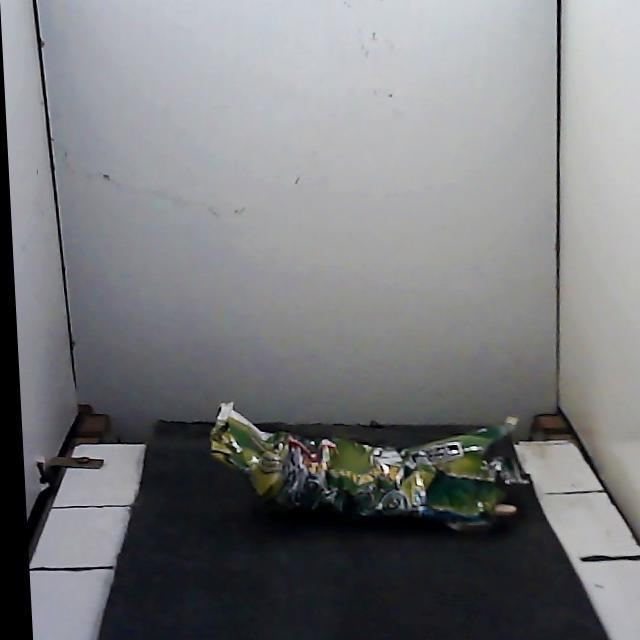plastico: (210, 403, 526, 529)
